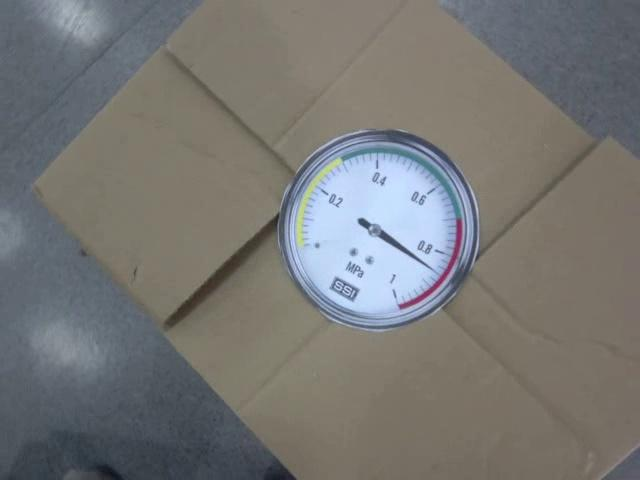Dashboard: (280, 128, 481, 330)
ssi: (329, 277, 358, 304)
